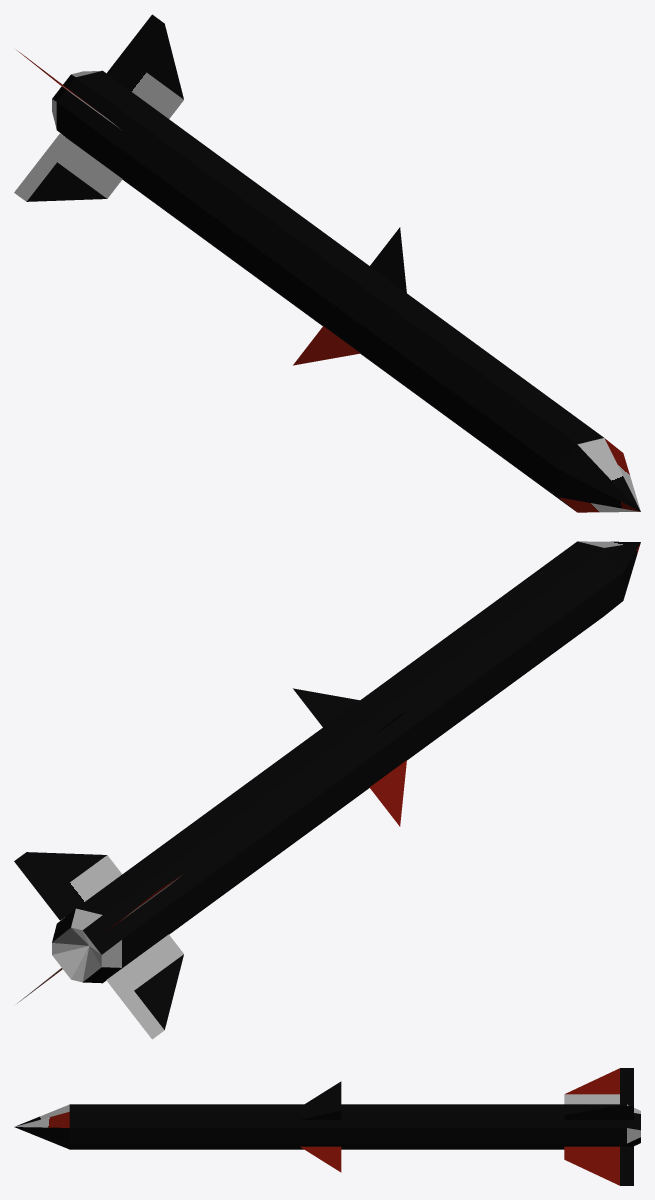
File: aim120b.obj
3 views of the same model, one above another, from view 1: azimuth 30°, elevation 25°; view 2: azimuth 150°, elevation 25°; view 3: azimuth 270°, elevation 25° (orthographic). The views are drawn at different scales.
Parts seen in each view (by area): view 1: cylinder, cone, plane4, plane3, cube8, cube2, cube5, plane7, cube3, plane8; view 2: cylinder, cylinder2, plane3, plane4, cube8, cube2, cube5, plane7, cube3, plane8, cone; view 3: cylinder, cone, plane6, plane5, cube, cube7, plane2, cube4, cube6, plane, cylinder2, cube2 (+3 smaller).
Part boxes in pixels (x1,y1,x2,y2): cylinder: (56, 71, 603, 510); cone: (558, 438, 640, 512); plane4: (27, 162, 106, 201); plane3: (134, 24, 183, 99); cube8: (57, 142, 122, 198); cube2: (119, 63, 183, 118); cube5: (14, 133, 72, 201); plane7: (293, 326, 360, 365); cube3: (106, 14, 164, 82); plane8: (370, 227, 406, 292); cylinder: (76, 541, 623, 981); cylinder2: (52, 908, 121, 983); plane3: (27, 852, 106, 891); plane4: (134, 954, 183, 1029); cube8: (119, 934, 183, 990); cube2: (57, 855, 122, 910); cube5: (106, 971, 164, 1039); plane7: (369, 760, 406, 826); cube3: (14, 852, 71, 920); plane8: (293, 688, 359, 727); cone: (578, 541, 640, 600); cylinder: (69, 1104, 626, 1149); cone: (14, 1104, 69, 1149); plane6: (565, 1159, 619, 1185); plane5: (565, 1068, 619, 1094); cube: (564, 1146, 619, 1159); cube7: (564, 1094, 619, 1104); plane2: (300, 1146, 341, 1172); cube4: (620, 1146, 633, 1185); cube6: (620, 1068, 633, 1105); plane: (305, 1081, 341, 1104); cylinder2: (627, 1104, 640, 1146); cube2: (564, 1115, 619, 1119).
Bounding box in the file's own units: 0.3978 × 0.3978 × 2.81.
